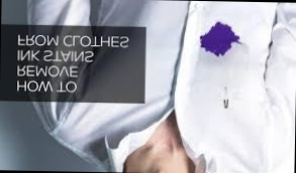ink: (202, 24, 237, 55)
